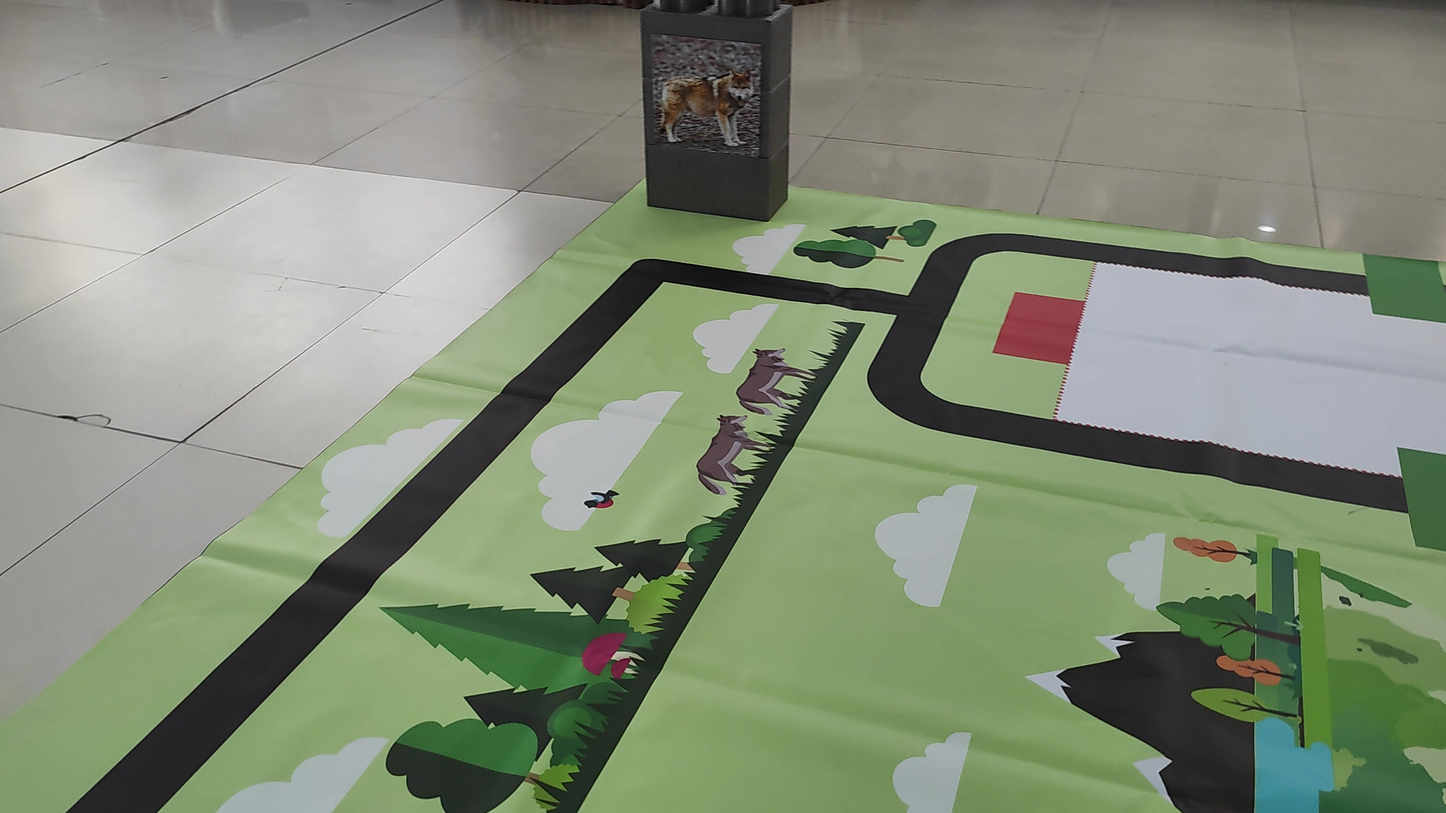wolf: (653, 49, 771, 147)
